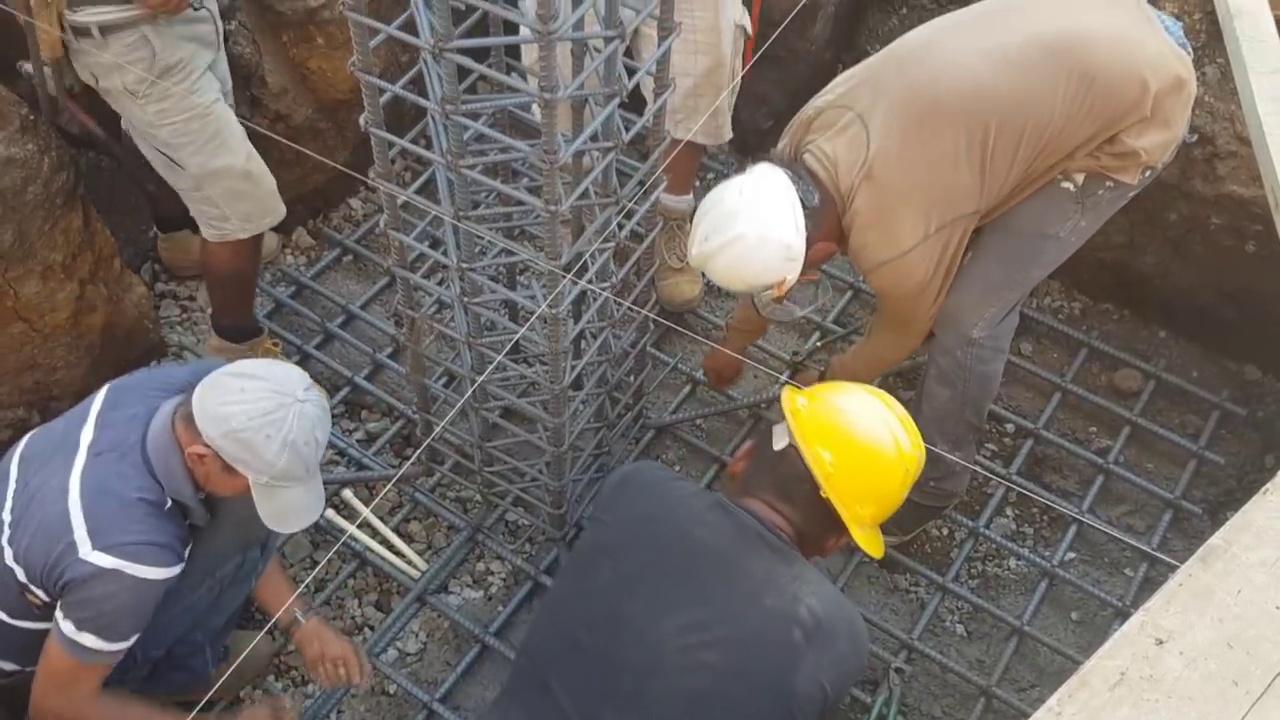helmet: (766, 372, 918, 555), (689, 158, 810, 307)
helmet-off: (179, 351, 326, 545)
helmet-on: (718, 376, 923, 553), (688, 136, 861, 314)
person: (758, 1, 1218, 508), (0, 330, 409, 698), (498, 391, 917, 706), (25, 0, 304, 450), (520, 8, 743, 326)
